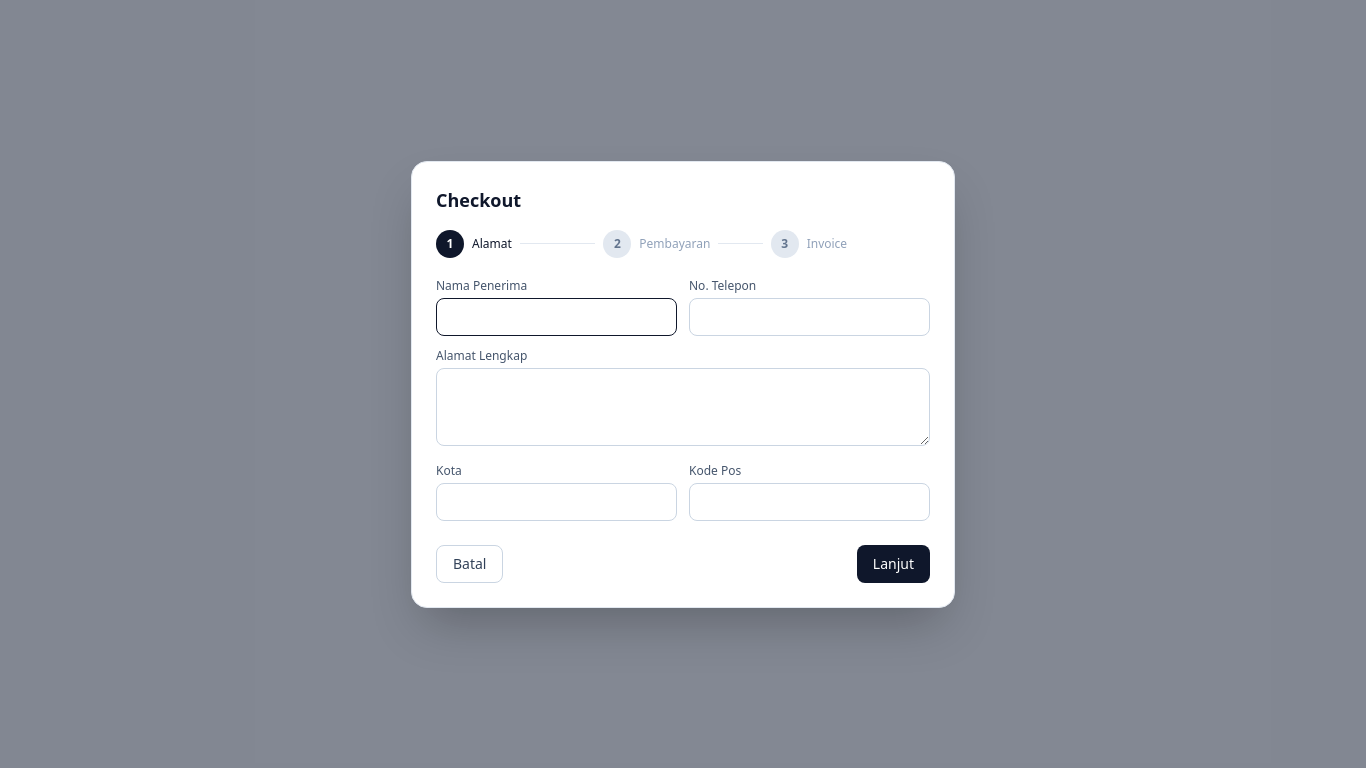
Scenario: CheckoutModal (wizard 3 langkah) › menahan langkah berikutnya saat alamat belum valid
This screenshot has width=1366, height=768.
Click the button "Lanjut" at (893, 564), box [857,544,930,582]
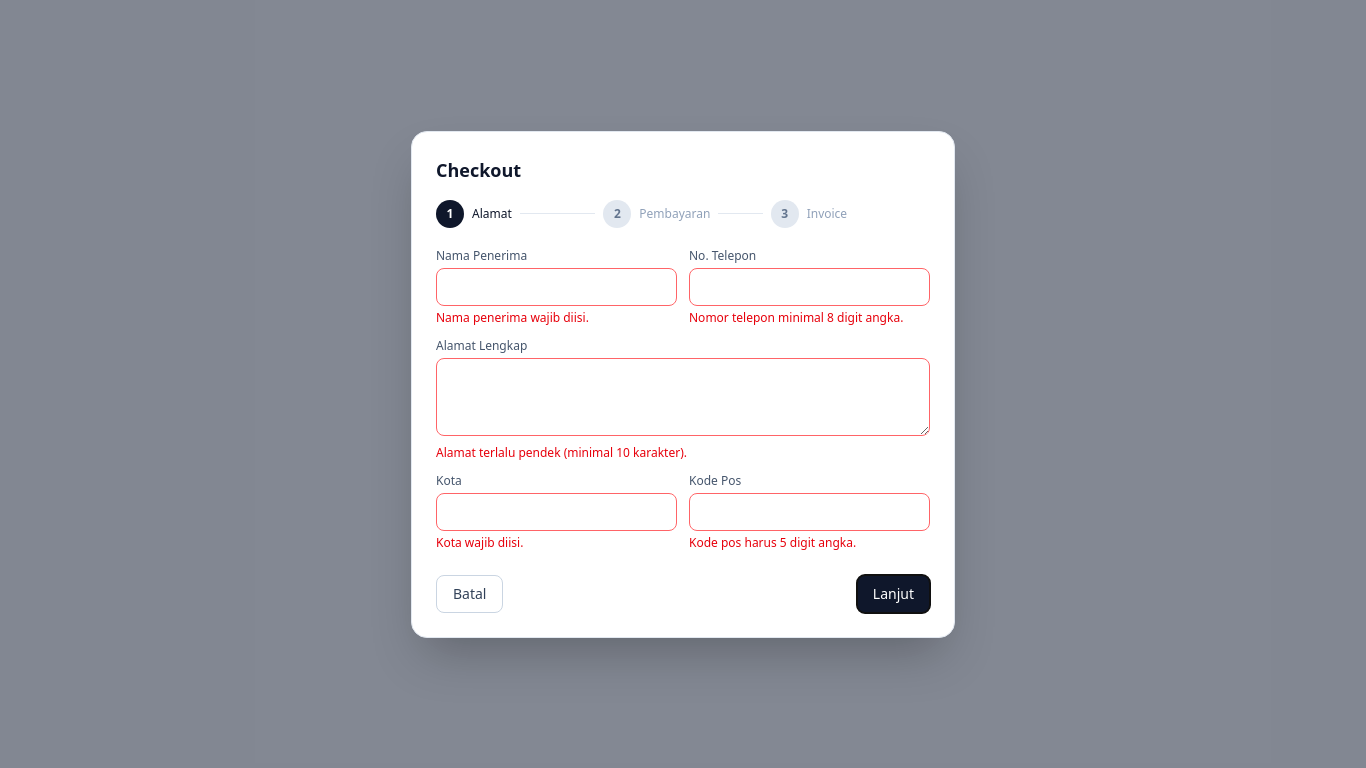
Result: the text "Nama penerima wajib diisi." is shown at [436,308,589,326]
